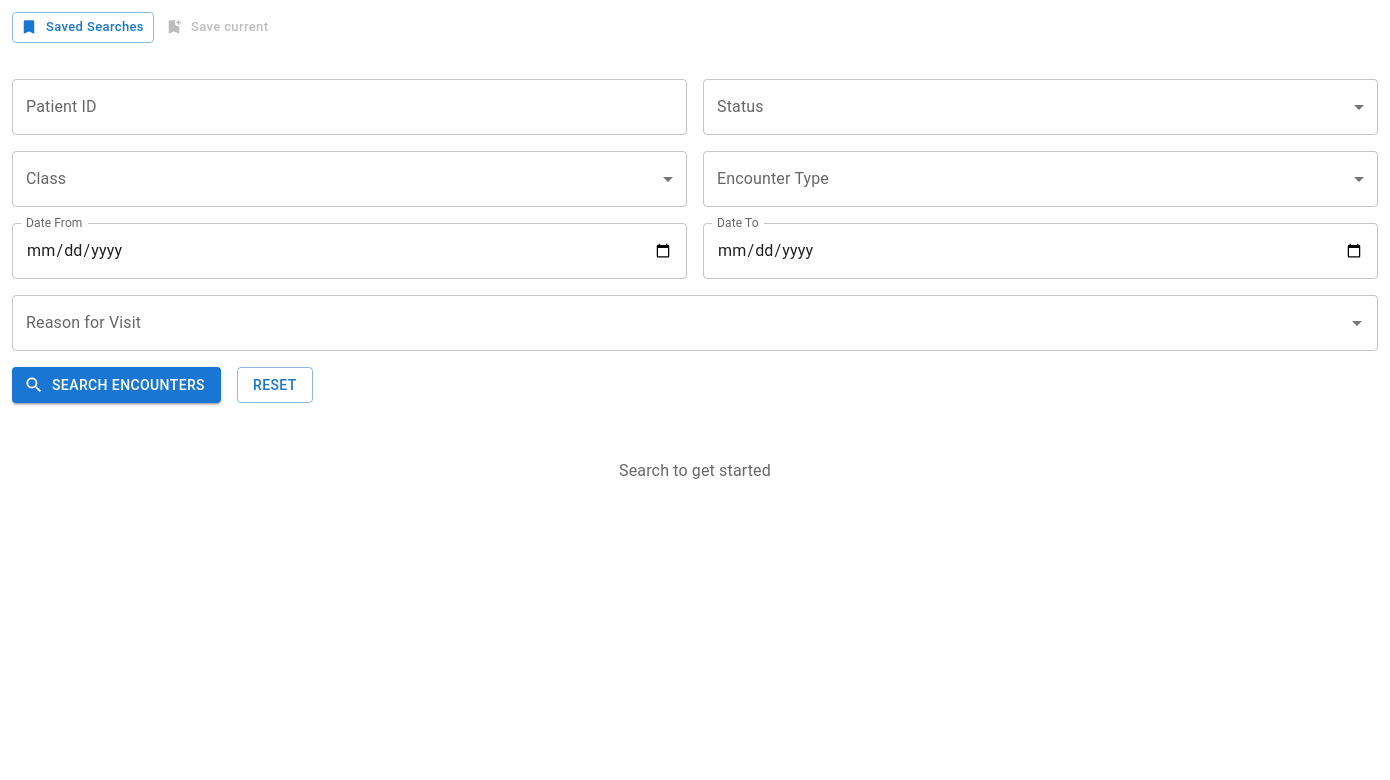
EncounterSearch › shows an error alert when the search fails
Click the button "Search Encounters": (116,385) [12, 367, 221, 403]
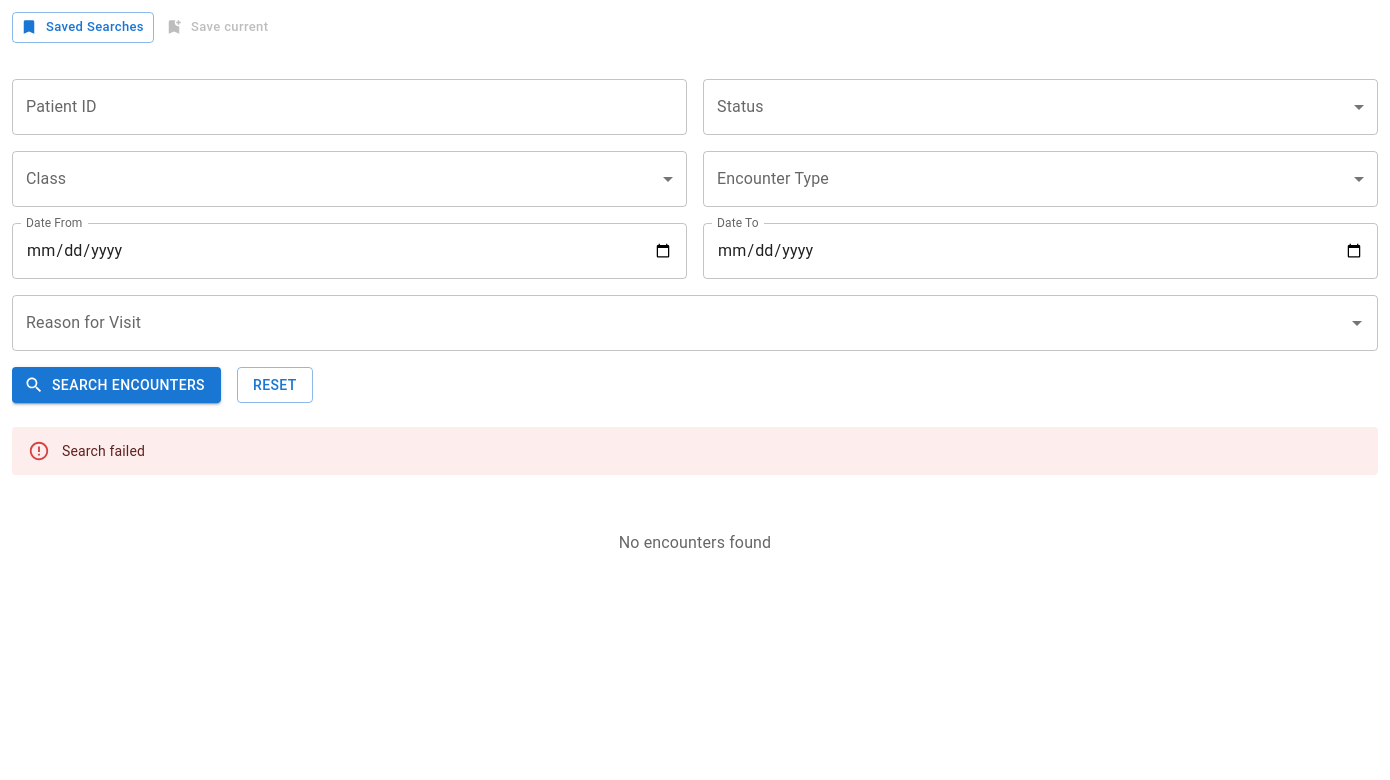
Expected: the message "Search failed" is shown, [12, 427, 1378, 475]
Expected: the text "Search failed" is shown, [62, 443, 145, 459]
